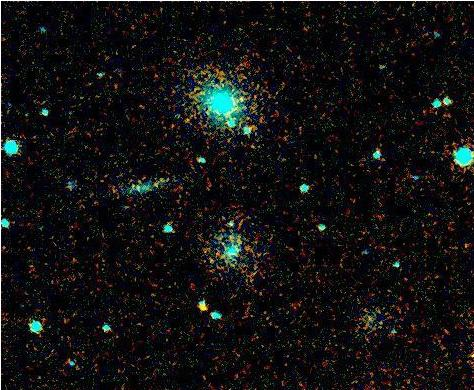star: (188, 291, 218, 321)
